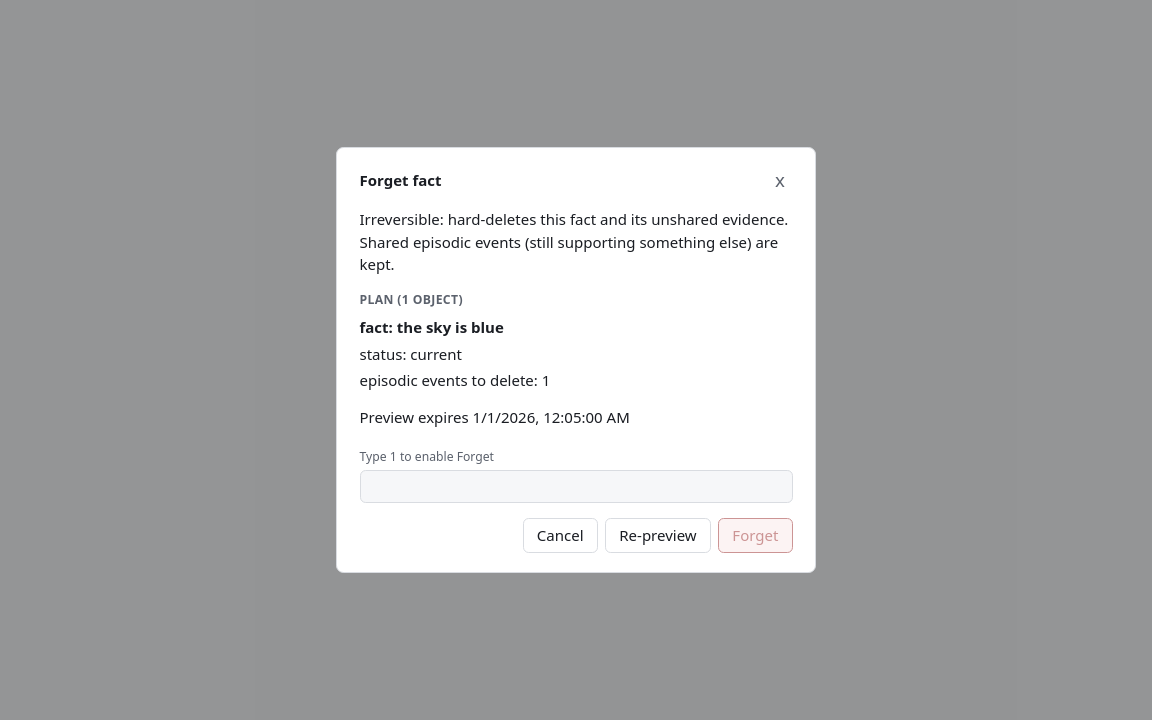
Scenario: ForgetDialog › surfaces a 409 on execute as a re-preview with the server's new count, and never resends the consumed token
Expected: the heading "Plan (1 object)" is shown, x1=360 y1=290 x2=463 y2=308
Type "1" into the field labelled "Type 1 to enable Forget" at (576, 486), box x1=360 y1=470 x2=792 y2=502
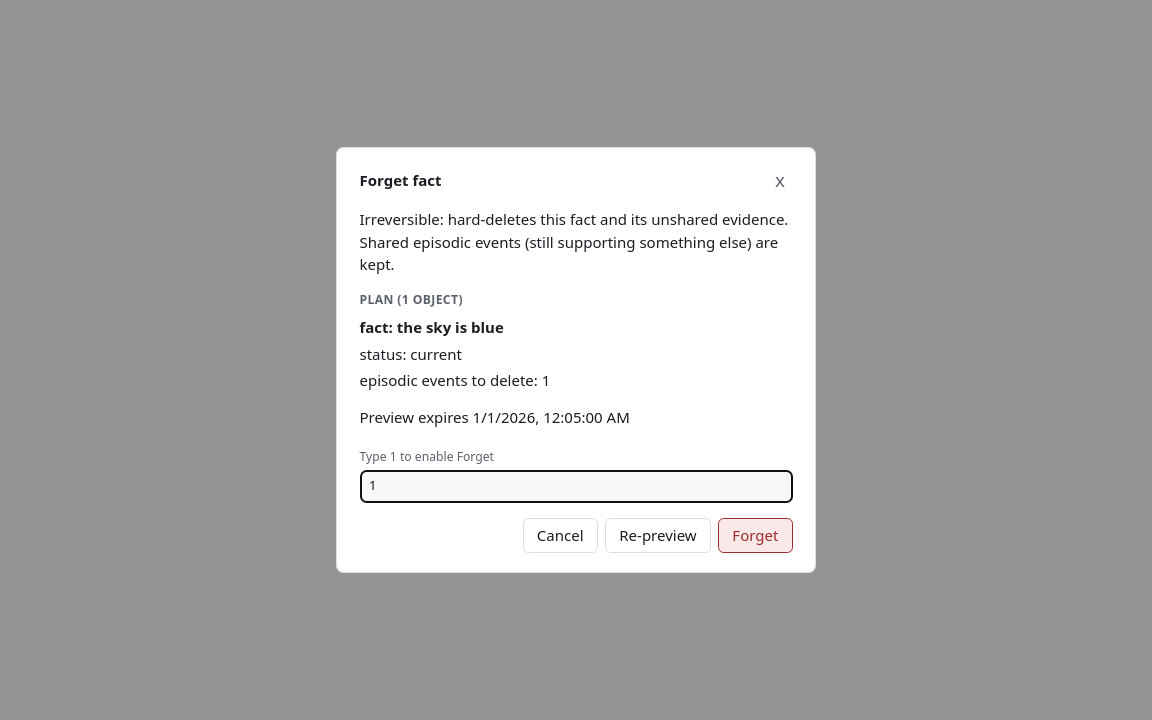
Click the button "Forget" at (755, 535), box x1=718 y1=518 x2=792 y2=553
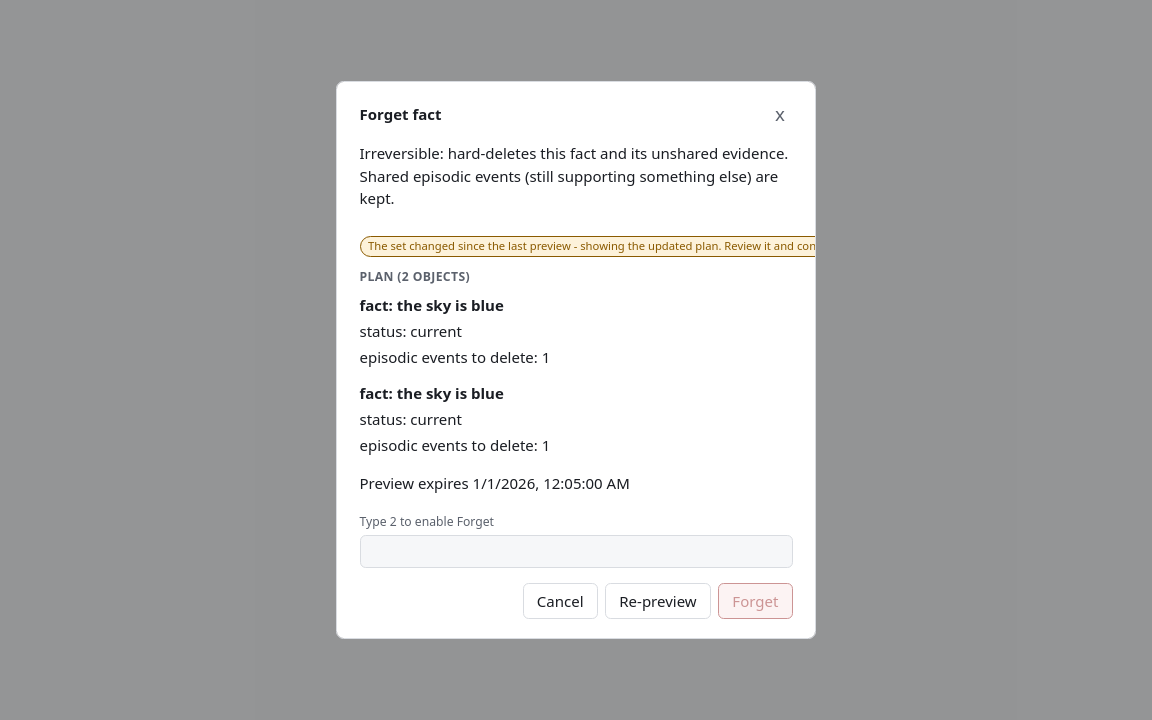
Now the text "changed since the last preview" is shown, box x1=368 y1=238 x2=816 y2=253
Now the heading "Plan (2 objects)" is shown, box x1=360 y1=268 x2=470 y2=285
Now the field labelled "Type 2 to enable Forget" is empty, box x1=360 y1=535 x2=792 y2=568
